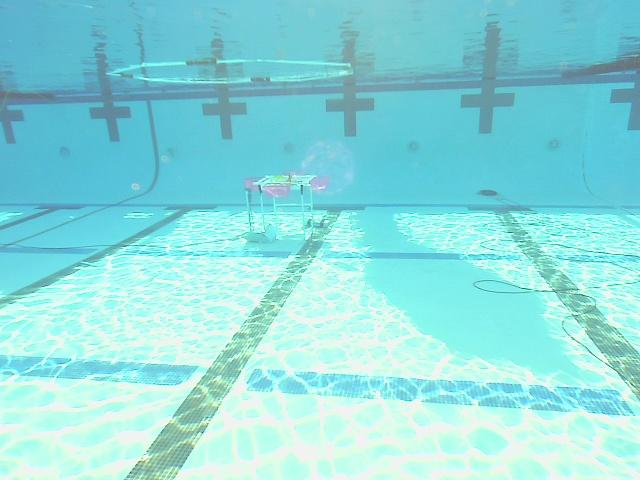table: (242, 170, 330, 242)
